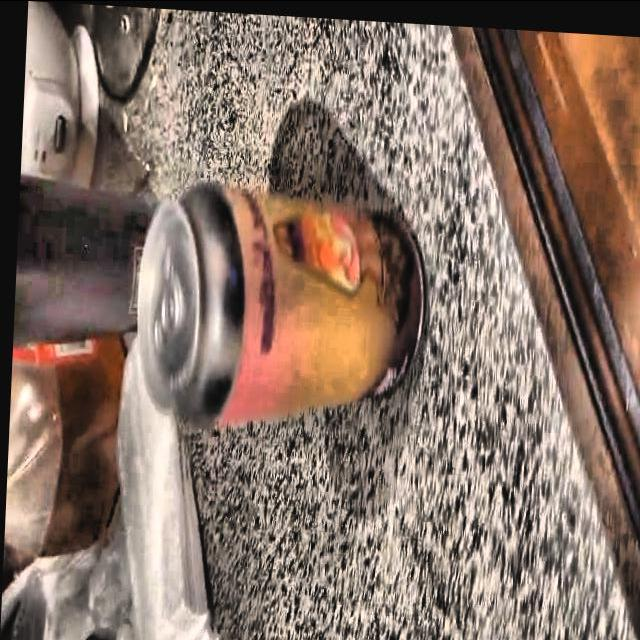Aluminum Can: (126, 170, 436, 442)
